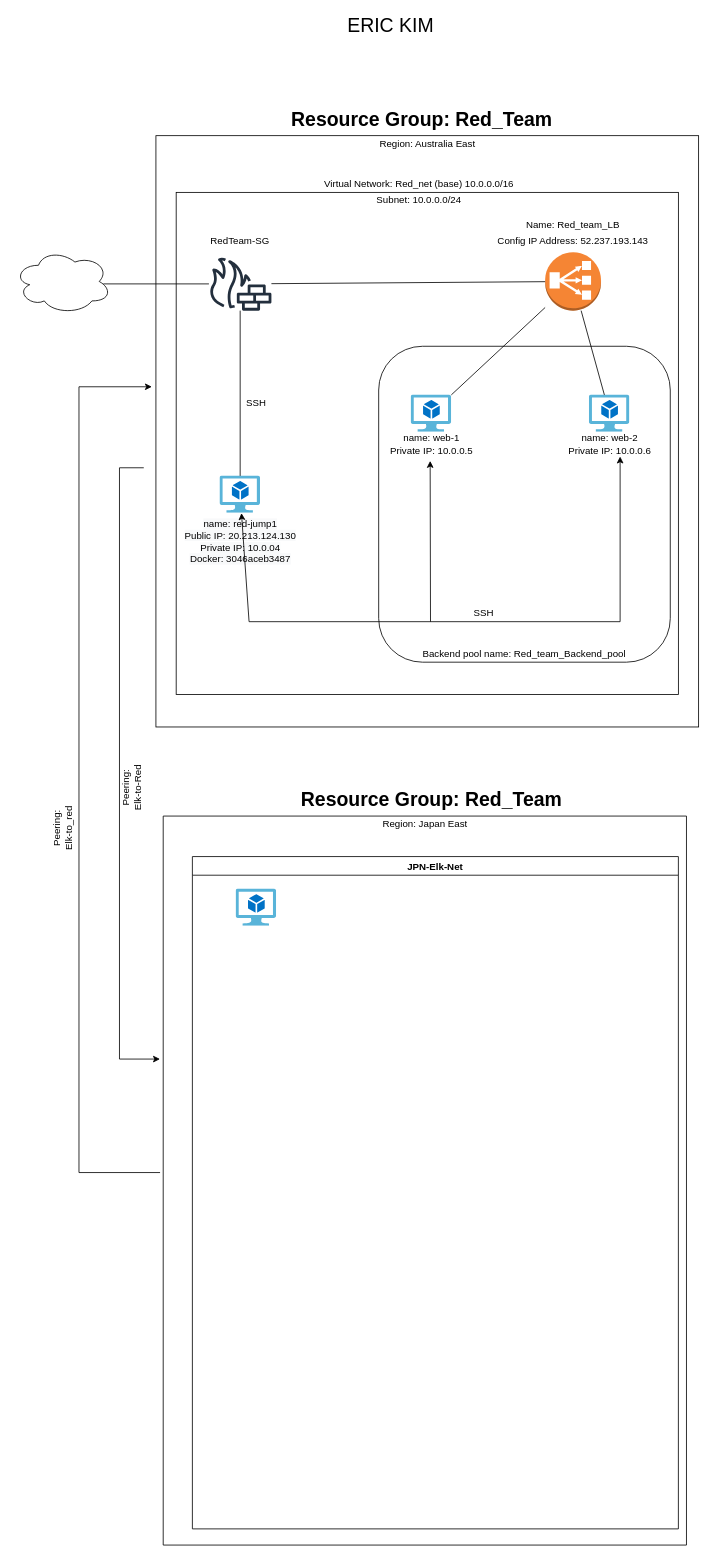
Some shapes in this 713 by 1559 pixel diagram are drawn without their labels. The shapes that lost their labels are listed below. From the top down, each one's box as (x1, y1, x2, y2) in pixels, then its label:
(13, 248, 111, 314): Internet
(236, 889, 276, 926): Name: elk-1 Public IP: 20.222.248.74 Private IP: 10.1.0.4 User: elkadmin
